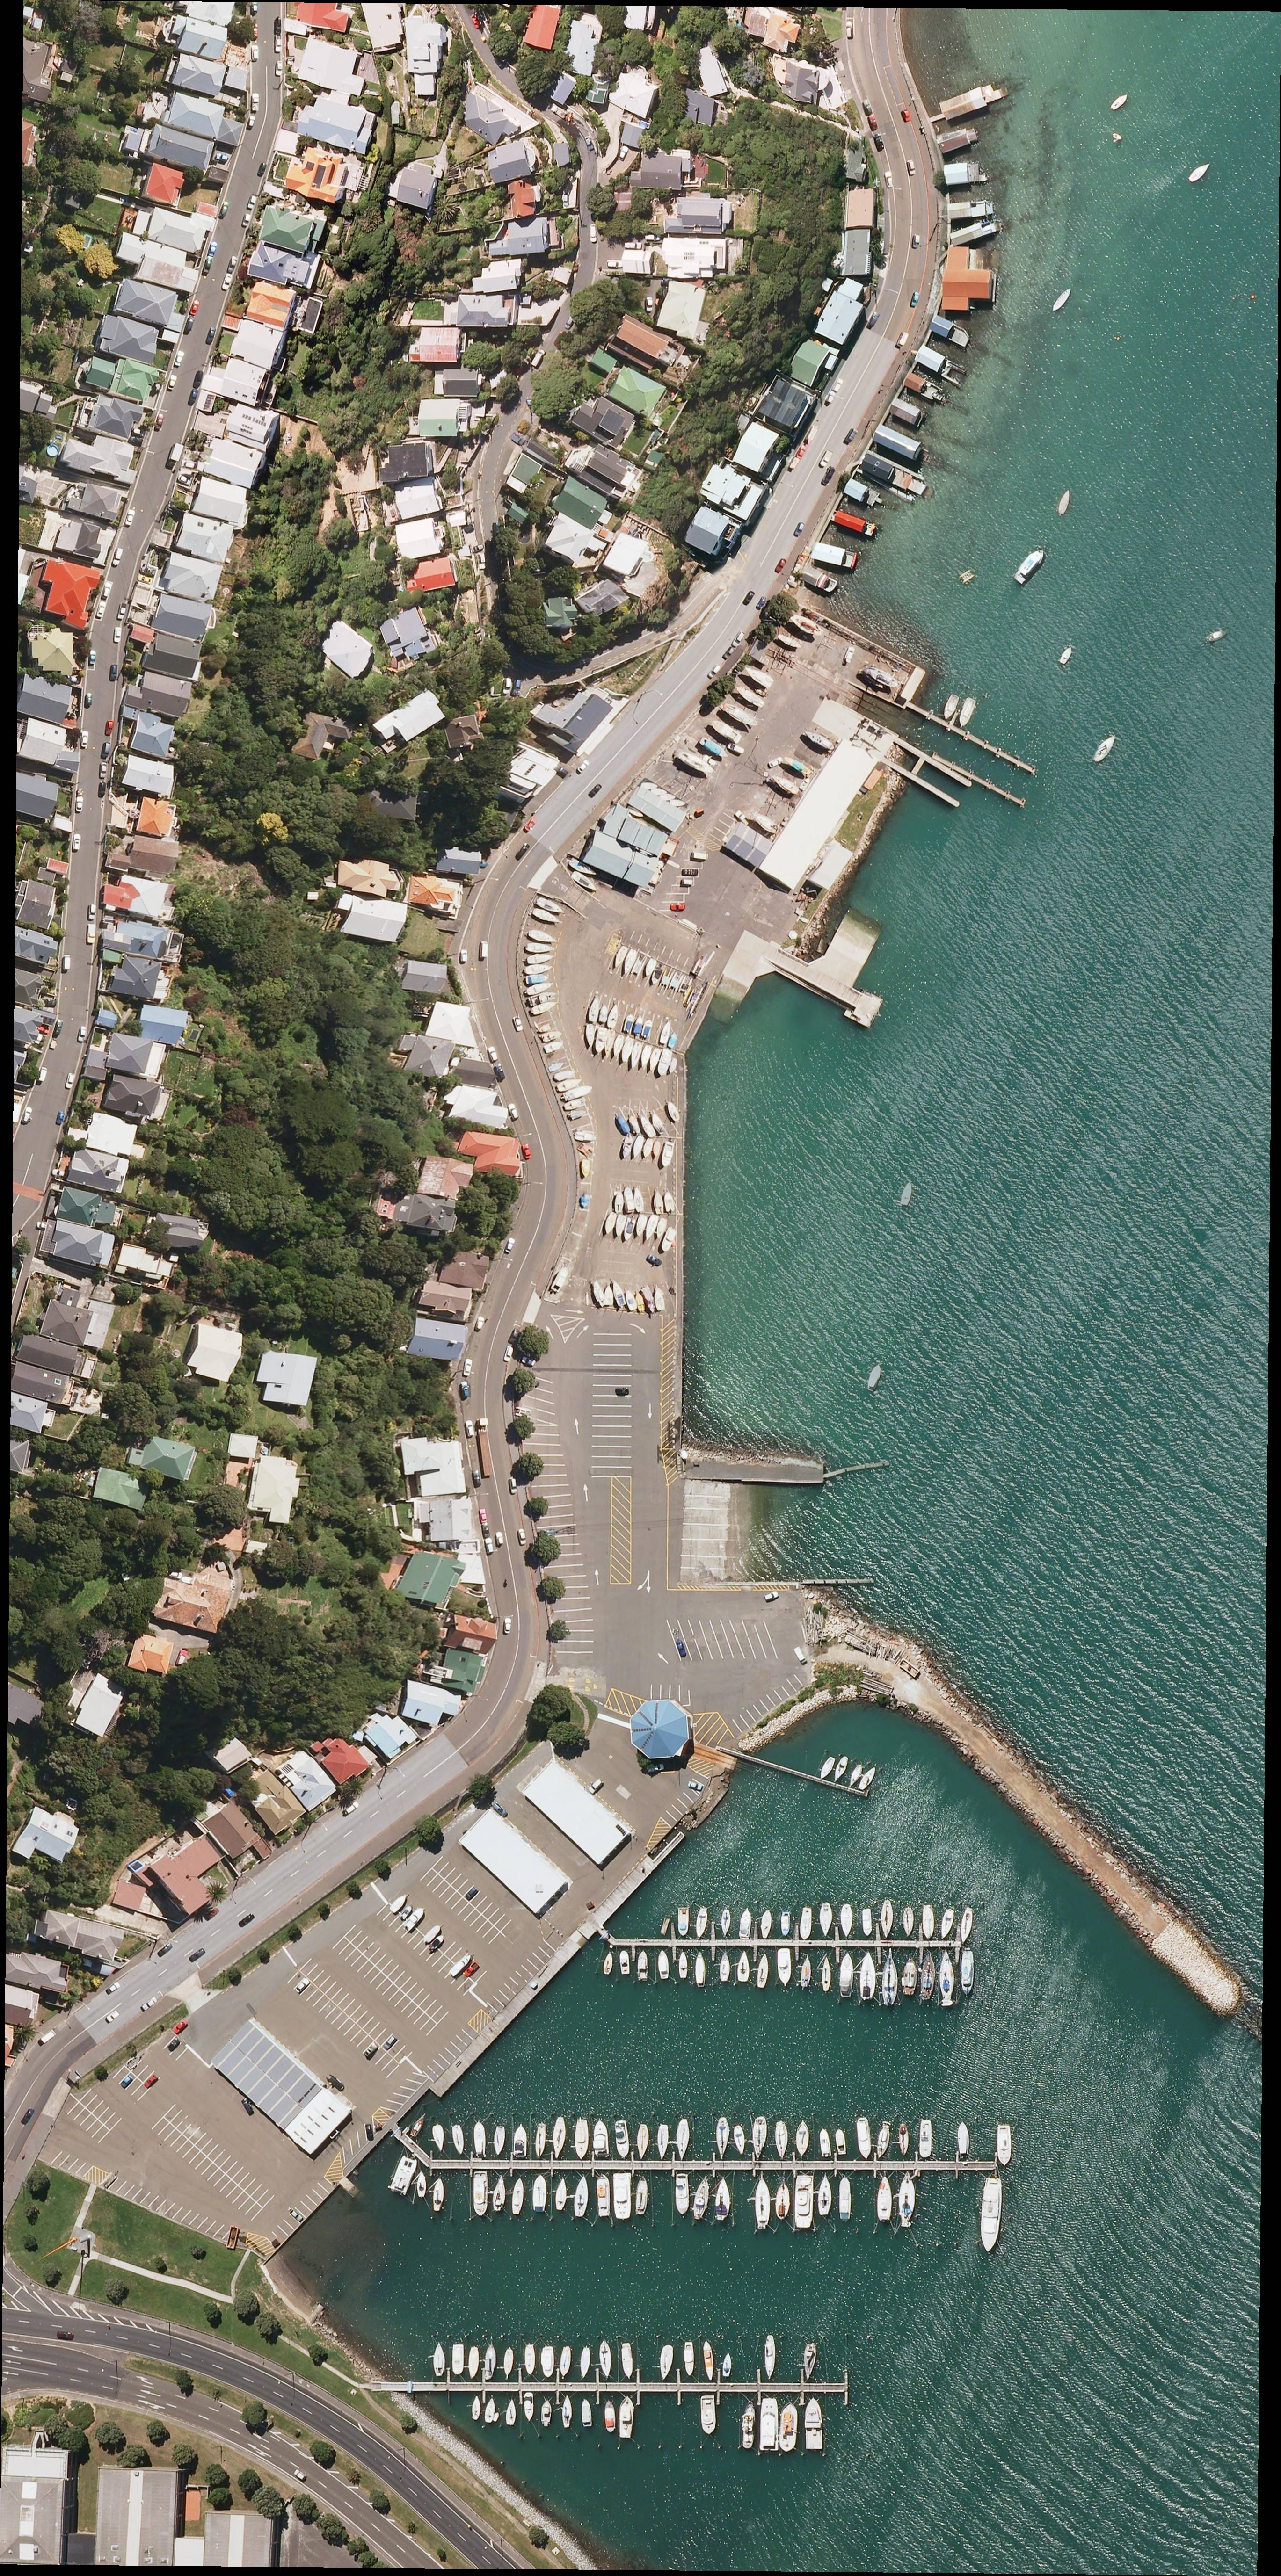harbor: (419, 2116, 1018, 2221), (432, 2338, 853, 2453), (610, 1904, 977, 2003), (740, 1753, 868, 1797), (880, 756, 960, 808), (895, 736, 973, 787), (950, 710, 960, 726)
large vehicle: (477, 1419, 493, 1475), (166, 444, 184, 470), (531, 348, 546, 366), (794, 1646, 807, 1664), (480, 941, 488, 958)
ship: (978, 2177, 1003, 2254), (1011, 545, 1047, 587), (388, 2155, 418, 2195), (794, 2175, 814, 2228), (881, 1948, 899, 2004), (898, 2172, 916, 2226), (761, 2399, 779, 2451), (804, 2399, 822, 2450), (1090, 733, 1118, 764), (692, 2177, 712, 2219), (613, 2173, 631, 2219), (781, 2402, 798, 2451), (714, 2177, 732, 2221), (860, 1952, 876, 1999), (755, 2177, 770, 2229), (656, 2343, 676, 2382), (751, 2116, 770, 2159), (572, 2175, 590, 2218), (551, 2116, 569, 2159), (919, 1953, 936, 1999), (839, 1952, 855, 1998), (613, 2119, 631, 2160), (941, 1950, 954, 2006), (876, 2177, 893, 2221), (957, 697, 978, 729), (1187, 159, 1214, 186), (875, 2121, 893, 2159), (474, 2170, 488, 2216), (775, 2180, 791, 2221), (676, 2119, 692, 2160), (937, 1907, 957, 1940), (901, 1955, 918, 1994), (701, 2395, 717, 2435), (510, 2177, 526, 2216), (857, 1764, 880, 1792), (595, 2173, 610, 2216), (755, 1952, 771, 1989), (492, 2175, 508, 2213), (997, 2124, 1011, 2165), (817, 2173, 832, 2215), (857, 2118, 872, 2159), (778, 1947, 793, 1988), (620, 2397, 635, 2438), (962, 1948, 975, 1994), (959, 1907, 975, 1944), (531, 2175, 548, 2211), (482, 2344, 498, 2380), (839, 2177, 852, 2219), (576, 2118, 589, 2160), (775, 2121, 789, 2159), (635, 2177, 650, 2215), (594, 2119, 608, 2157), (941, 693, 960, 721), (743, 2402, 755, 2450), (676, 2173, 689, 2215), (694, 1907, 710, 1940), (735, 1950, 751, 1983), (921, 1904, 936, 1940), (832, 1755, 850, 1784), (636, 2123, 651, 2159), (919, 2119, 932, 2159), (702, 2341, 715, 2380), (492, 2126, 508, 2157), (557, 2346, 574, 2377), (554, 2177, 569, 2211), (796, 2119, 809, 2157), (804, 2343, 817, 2380), (622, 2341, 635, 2379), (717, 2118, 728, 2160), (817, 1755, 837, 1779), (738, 1907, 753, 1940), (799, 1907, 814, 1940), (513, 2124, 528, 2157), (881, 1901, 895, 1937), (957, 2121, 970, 2155), (656, 2124, 669, 2159), (474, 2121, 487, 2155), (765, 2334, 775, 2379), (840, 1904, 853, 1937), (799, 1955, 812, 1988), (604, 2400, 617, 2433), (534, 2124, 548, 2157), (432, 2178, 446, 2211), (579, 2346, 592, 2379), (432, 2343, 446, 2376), (541, 2344, 554, 2377), (600, 2341, 612, 2377), (847, 1764, 865, 1787), (733, 2124, 747, 2155), (452, 2124, 465, 2155), (696, 1953, 707, 1988), (821, 1902, 832, 1937), (821, 1957, 832, 1991), (819, 2128, 832, 2157), (658, 1950, 671, 1980), (677, 1907, 691, 1937), (760, 1909, 773, 1939), (469, 2346, 480, 2379), (898, 2124, 909, 2155), (452, 2344, 464, 2376), (1059, 646, 1075, 667), (834, 2129, 847, 2155), (432, 2126, 446, 2152), (1205, 628, 1228, 642), (719, 1952, 730, 1981), (684, 2341, 694, 2376), (602, 1952, 615, 1976), (562, 2395, 572, 2428), (903, 1907, 914, 1935), (580, 2399, 592, 2427), (503, 2348, 515, 2376), (720, 1909, 732, 1935), (862, 1909, 873, 1935), (722, 2351, 733, 2377), (506, 2399, 518, 2425), (485, 2397, 497, 2423), (638, 1952, 648, 1981), (525, 2392, 534, 2422), (525, 2344, 534, 2374), (620, 1950, 631, 1975), (541, 2400, 553, 2425), (679, 1952, 689, 1978), (781, 1911, 791, 1937), (472, 2395, 482, 2420), (418, 2172, 428, 2196)
small vehicle: (327, 2075, 345, 2093), (156, 1942, 174, 1958), (730, 631, 747, 649), (238, 1912, 255, 1929), (294, 1978, 311, 1994), (587, 1778, 604, 1794), (363, 2042, 378, 2060), (819, 450, 834, 468), (20, 1106, 33, 1125), (727, 743, 747, 756), (189, 1948, 206, 1963), (143, 2073, 160, 2088), (344, 1801, 360, 1815), (492, 1802, 508, 1817), (523, 816, 538, 833), (153, 412, 166, 430), (100, 582, 113, 600), (844, 646, 857, 664), (775, 557, 788, 575), (845, 427, 858, 445), (506, 1102, 520, 1120), (53, 1019, 64, 1038), (112, 547, 123, 567), (289, 2208, 304, 2223), (707, 665, 722, 680), (383, 2035, 398, 2050), (589, 784, 604, 798), (21, 2109, 35, 2126), (173, 2021, 189, 2034), (141, 1998, 158, 2011), (189, 299, 202, 315), (123, 509, 136, 526), (474, 1316, 487, 1332), (508, 1329, 521, 1346), (646, 1254, 663, 1267), (493, 1065, 506, 1081), (222, 273, 234, 291), (227, 256, 238, 274), (219, 200, 230, 219), (184, 315, 196, 334), (192, 371, 204, 389), (676, 1640, 687, 1658), (883, 171, 895, 189), (462, 1359, 474, 1377), (503, 1346, 515, 1364), (105, 2011, 120, 2024), (465, 1886, 479, 1901), (577, 759, 590, 774), (64, 1073, 76, 1089), (206, 329, 217, 345), (207, 241, 219, 258), (247, 194, 258, 210), (187, 389, 199, 406), (174, 350, 186, 366), (95, 601, 107, 618), (768, 757, 784, 769), (794, 521, 806, 537), (909, 292, 921, 309), (873, 135, 885, 151), (867, 115, 878, 131), (505, 1237, 516, 1254), (100, 743, 110, 761), (107, 1981, 120, 1994), (120, 2075, 133, 2088), (722, 647, 735, 660), (765, 1590, 779, 1602), (756, 596, 768, 611), (743, 591, 755, 606), (832, 378, 844, 393), (796, 445, 807, 460), (868, 312, 880, 327), (862, 100, 873, 115), (483, 1538, 495, 1552), (77, 1027, 87, 1043), (87, 904, 97, 920), (625, 241, 641, 251), (168, 375, 178, 391), (109, 665, 118, 682), (105, 720, 115, 736), (906, 159, 916, 176), (460, 1382, 470, 1398), (465, 1421, 475, 1438), (472, 1470, 482, 1487), (503, 1618, 513, 1635), (488, 1046, 498, 1063), (513, 1015, 523, 1032), (293, 2469, 306, 2481), (178, 475, 191, 486), (825, 391, 837, 404), (252, 94, 260, 112), (72, 833, 81, 851), (845, 21, 853, 39), (518, 1528, 526, 1546), (242, 214, 252, 228), (257, 163, 266, 177), (117, 605, 127, 619), (97, 782, 107, 797), (687, 1781, 702, 1791), (521, 1143, 531, 1158), (89, 649, 97, 665), (81, 731, 89, 748), (99, 762, 107, 779), (669, 904, 686, 912), (648, 1764, 664, 1773), (367, 2124, 375, 2141), (510, 1479, 518, 1495), (215, 153, 229, 163), (247, 115, 257, 128), (56, 1111, 64, 1125), (275, 61, 283, 76), (608, 261, 623, 269), (76, 797, 84, 812), (113, 628, 122, 642), (913, 235, 921, 250), (482, 1523, 490, 1538), (590, 225, 597, 243), (901, 110, 911, 122), (252, 44, 258, 61), (84, 693, 92, 706), (460, 950, 469, 963), (495, 1533, 503, 1546), (646, 297, 653, 312), (480, 1508, 487, 1523)
